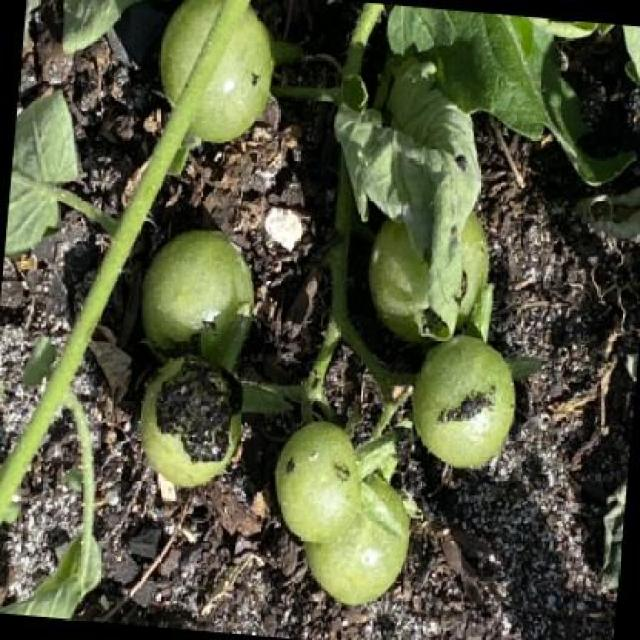unripe tomato: (146, 0, 286, 155), (133, 224, 264, 376), (407, 329, 527, 478), (268, 410, 370, 553)
